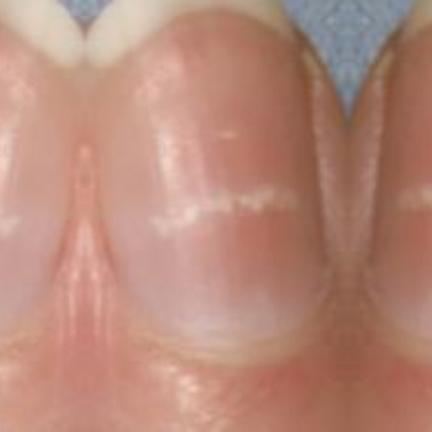Nail: (84, 0, 333, 368), (0, 3, 84, 342), (361, 0, 432, 367)
